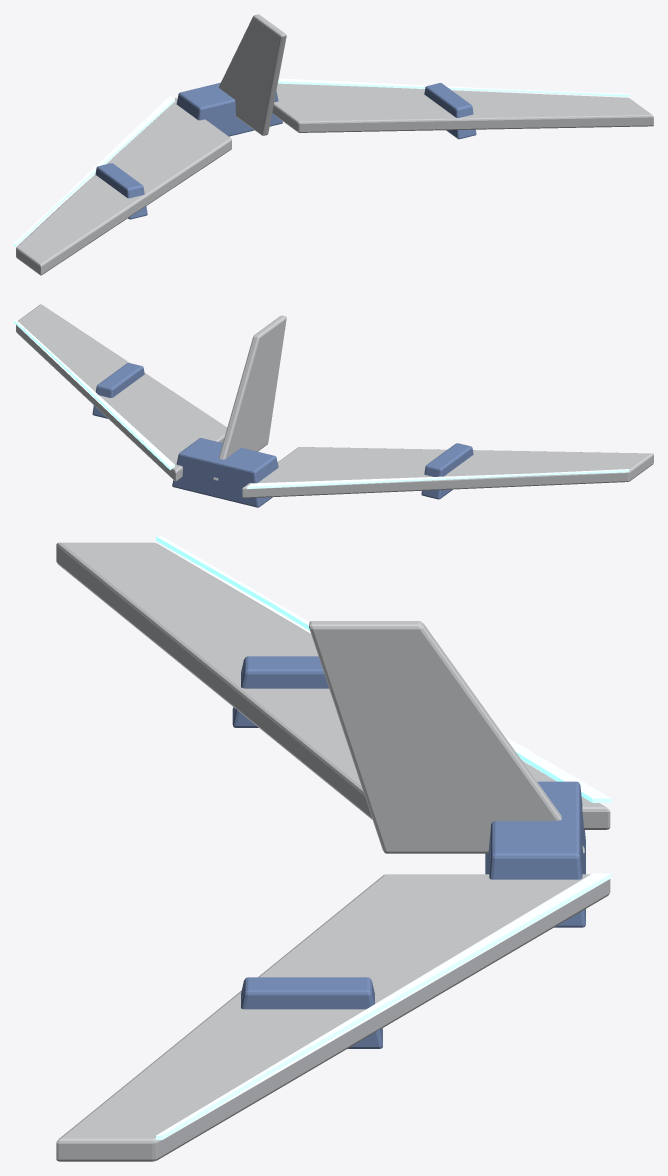
The model's file is wing_fast.glb.
3 views of the same model, one above another, from view 1: azimuth 30°, elevation 25°; view 2: azimuth 150°, elevation 25°; view 3: azimuth 270°, elevation 25° (orthographic). The views are drawn at different scales.
Parts seen in each view (by area): view 1: wing.001, wing, tail_fin, wing_root, wing_edge.001, wing_edge, wing_pod.001, wing_pod; view 2: wing, wing.001, tail_fin, wing_root, wing_edge, wing_edge.001, wing_pod, wing_pod.001; view 3: wing.001, tail_fin, wing, wing_root, wing_edge.001, wing_pod.001, wing_pod, wing_edge.
Boxes of the visible parts, x1,y1,x2,y2 form: wing.001: [272, 83, 653, 132]; wing: [16, 98, 231, 275]; tail_fin: [218, 14, 286, 135]; wing_root: [176, 82, 282, 136]; wing_edge.001: [278, 78, 629, 96]; wing_edge: [14, 96, 174, 246]; wing_pod.001: [424, 83, 476, 139]; wing_pod: [95, 163, 147, 219]; wing: [242, 447, 653, 498]; wing.001: [16, 304, 227, 481]; tail_fin: [213, 315, 286, 480]; wing_root: [172, 438, 278, 507]; wing_edge: [247, 469, 629, 488]; wing_edge.001: [14, 319, 174, 470]; wing_pod: [421, 443, 473, 499]; wing_pod.001: [92, 363, 144, 418]; wing.001: [56, 874, 610, 1161]; tail_fin: [309, 621, 584, 853]; wing: [56, 542, 610, 829]; wing_root: [485, 781, 585, 927]; wing_edge.001: [156, 873, 611, 1139]; wing_pod.001: [241, 977, 382, 1048]; wing_pod: [232, 656, 328, 727]; wing_edge: [156, 536, 611, 802].
Size of the model in its own units: 19.04 by 3.91 by 7.46.
